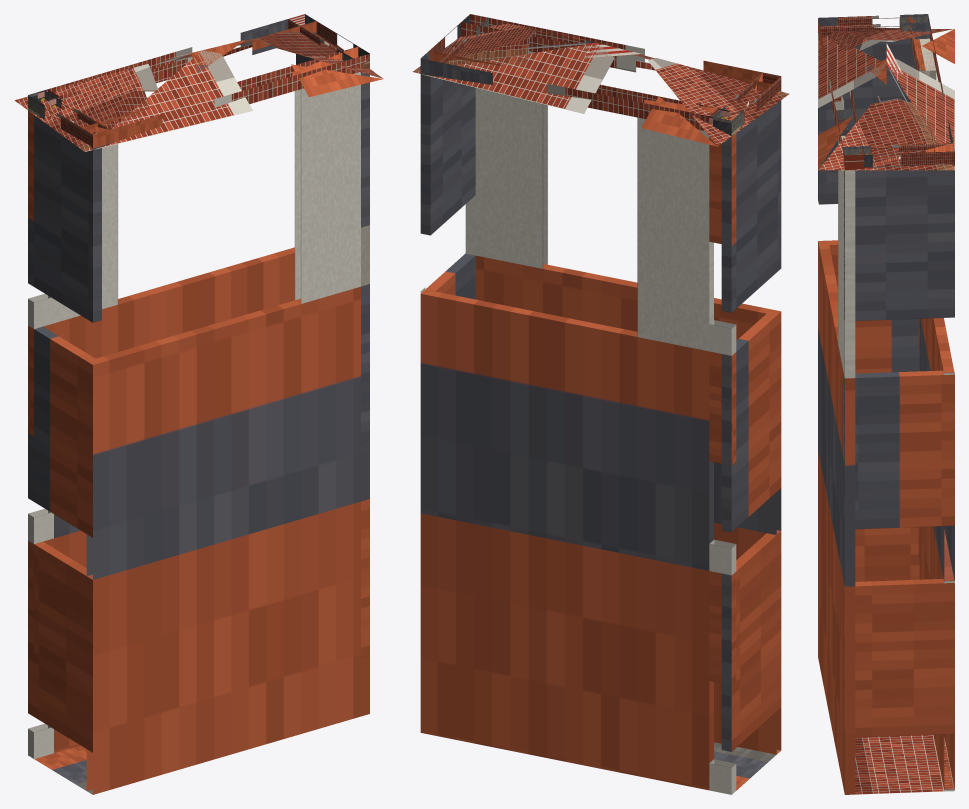
3 views of the same model, side by side, from view 1: azimuth 30°, elevation 25°; view 2: azimuth 150°, elevation 25°; view 3: azimuth 270°, elevation 25° (orthographic). The views are drawn at different scales.
Visible parts, largest first — view 1: 238530451__wall_4_xb, 238530451__wall_3_xb, 238530451__wall_1_xb, 238530451_roof_front_xb, 238530451_roof_left_xb, 238530451__wall_2_xb, 238530451__wall_0_xb, 238530451__cornice_4, 238530451__cornice_1, 238530451_roof_right_xb, 238530451__base, 238530451__cornice_3 (+1 smaller); view 2: 238530451__wall_1_xb, 238530451__wall_3_xb, 238530451__wall_4_xb, 238530451__wall_0_xb, 238530451__wall_2_xb, 238530451_roof_back_xb, 238530451_roof_left_xb, 238530451__cornice_1, 238530451_roof_right_xb, 238530451__cornice_4, 238530451__cornice_3, 238530451__base; view 3: 238530451__wall_0_xb, 238530451__wall_4_xb, 238530451__wall_3_xb, 238530451__base, 238530451_roof_right_xb, 238530451__wall_1_xb, 238530451_roof_front_xb, 238530451_roof_back_xb, 238530451__cornice_0, 238530451_roof_left_xb, 238530451__cornice_3, 238530451__cornice_4 (+1 smaller).
Boxes of the visible parts, left/top/right/bottom form: 238530451__wall_4_xb: left=86, top=72, right=369, bottom=794; 238530451__wall_3_xb: left=28, top=115, right=101, bottom=752; 238530451__wall_1_xb: left=54, top=144, right=294, bottom=753; 238530451_roof_front_xb: left=85, top=50, right=382, bottom=151; 238530451_roof_left_xb: left=14, top=39, right=245, bottom=151; 238530451__wall_2_xb: left=28, top=110, right=53, bottom=758; 238530451__wall_0_xb: left=296, top=54, right=369, bottom=657; 238530451__cornice_4: left=81, top=46, right=369, bottom=149; 238530451__cornice_1: left=48, top=14, right=316, bottom=102; 238530451_roof_right_xb: left=163, top=31, right=383, bottom=78; 238530451__base: left=34, top=745, right=92, bottom=794; 238530451__cornice_3: left=28, top=90, right=109, bottom=149; 238530451__wall_1_xb: left=420, top=117, right=713, bottom=790; 238530451__wall_3_xb: left=721, top=100, right=781, bottom=751; 238530451__wall_4_xb: left=465, top=51, right=781, bottom=754; 238530451__wall_0_xb: left=420, top=74, right=475, bottom=299; 238530451__wall_2_xb: left=709, top=133, right=736, bottom=794; 238530451_roof_back_xb: left=412, top=43, right=716, bottom=146; 238530451_roof_left_xb: left=560, top=34, right=789, bottom=146; 238530451__cornice_1: left=420, top=50, right=717, bottom=130; 238530451_roof_right_xb: left=413, top=23, right=640, bottom=71; 238530451__cornice_4: left=461, top=14, right=771, bottom=92; 238530451__cornice_3: left=713, top=72, right=781, bottom=135; 238530451__base: left=714, top=742, right=780, bottom=790; 238530451__wall_0_xb: left=844, top=170, right=954, bottom=737; 238530451__wall_4_xb: left=818, top=135, right=855, bottom=794; 238530451__wall_3_xb: left=818, top=38, right=919, bottom=581; 238530451__base: left=855, top=734, right=954, bottom=794; 238530451_roof_right_xb: left=818, top=43, right=954, bottom=170; 238530451__wall_1_xb: left=919, top=38, right=954, bottom=791; 238530451_roof_front_xb: left=818, top=33, right=885, bottom=169; 238530451_roof_back_xb: left=888, top=29, right=954, bottom=169; 238530451__cornice_0: left=843, top=143, right=954, bottom=169; 238530451_roof_left_xb: left=827, top=29, right=953, bottom=84; 238530451__cornice_3: left=819, top=14, right=929, bottom=38; 238530451__cornice_4: left=818, top=17, right=864, bottom=170.
Size of the model in its own units: 0.5095 by 1.11 by 0.2084.
Materials: 1 (1 with a texture image).
